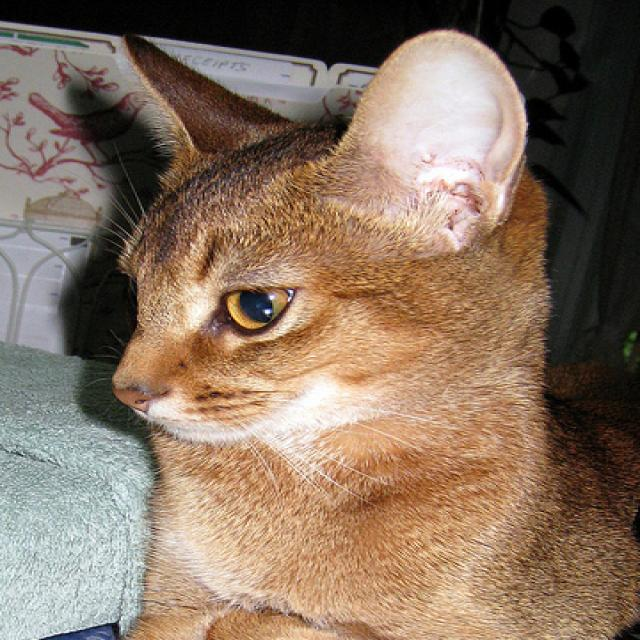Abyssinian: (99, 30, 640, 640)
